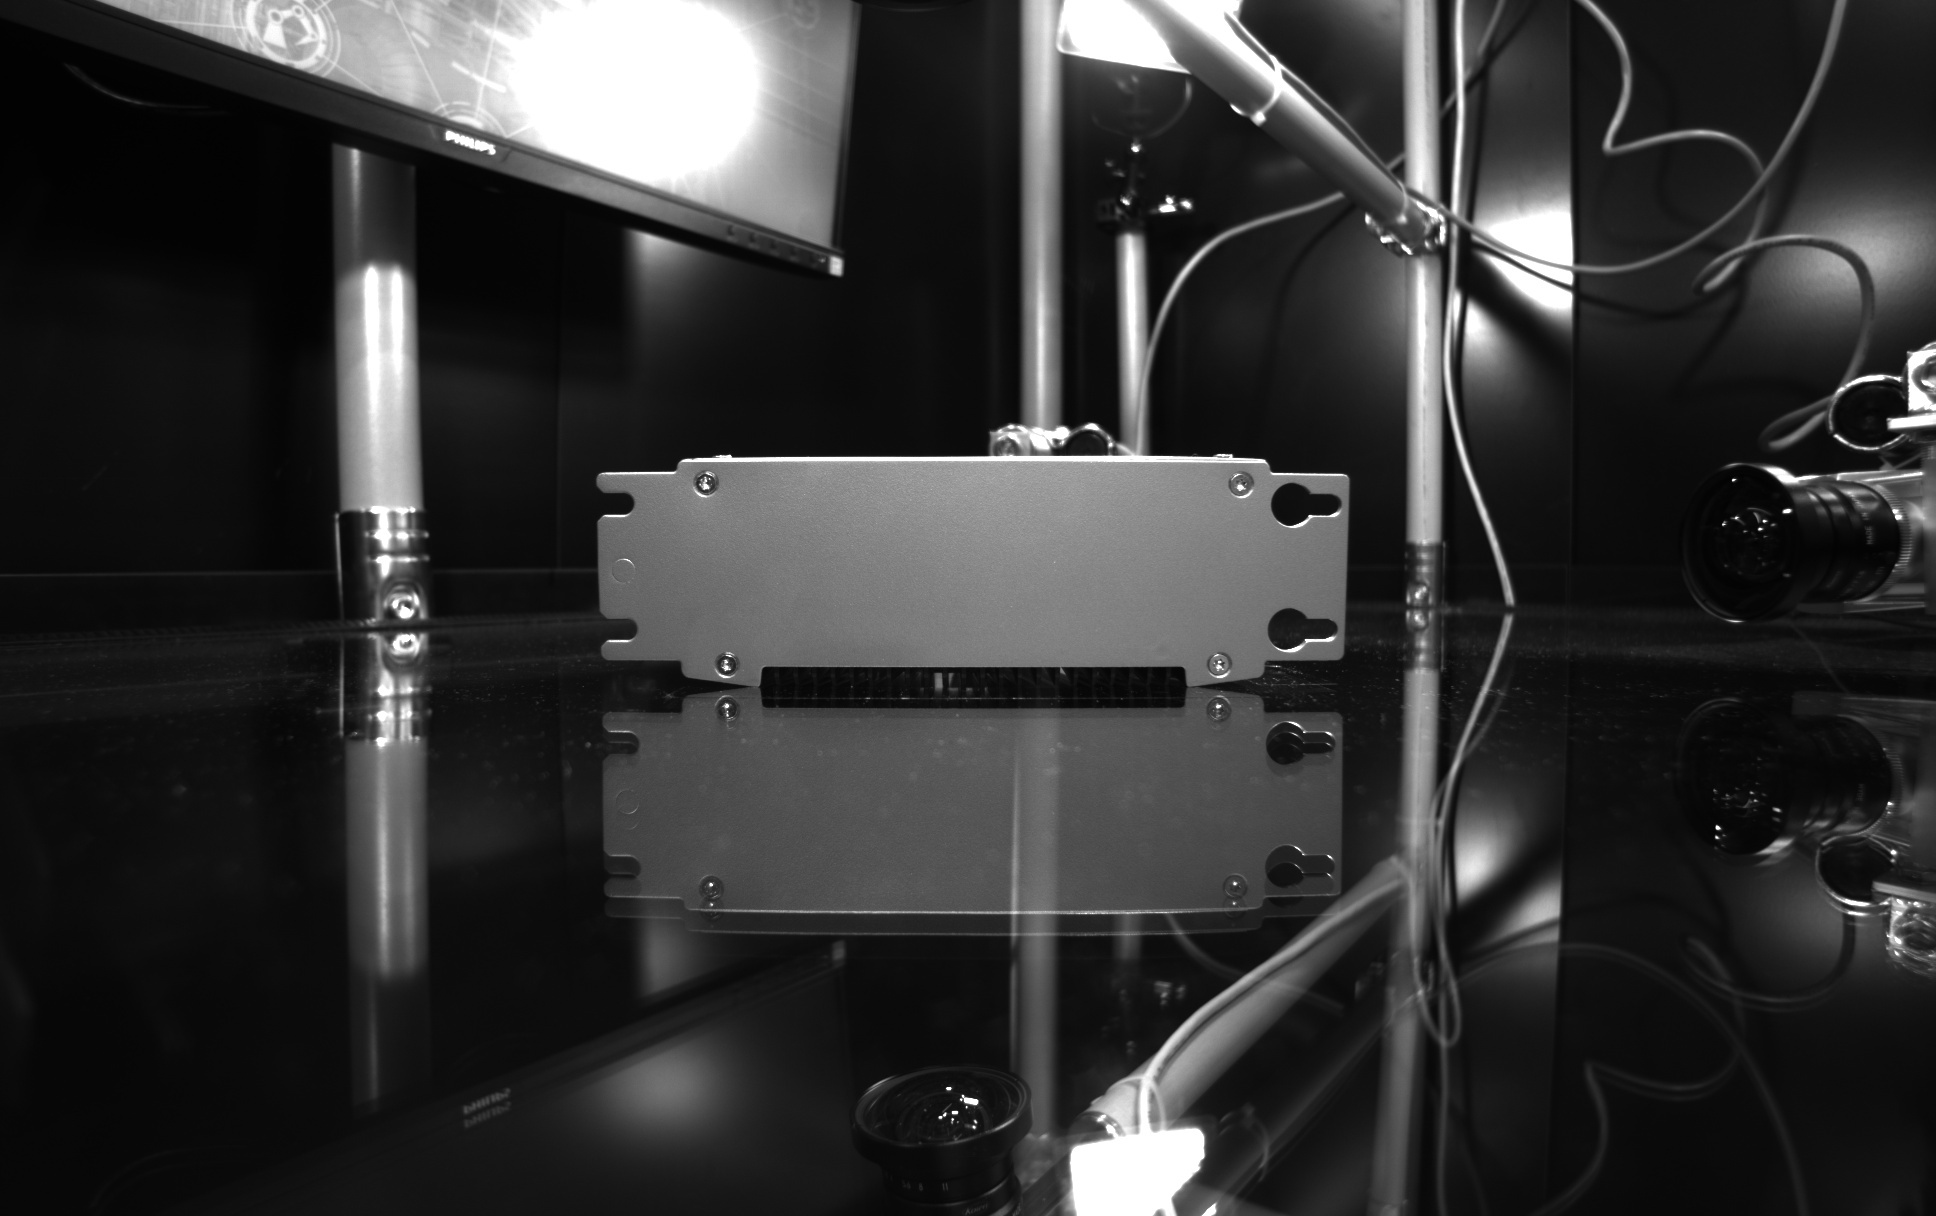CamBack: (570, 426, 1367, 688)
Schraube: (707, 643, 749, 684), (1222, 461, 1262, 502), (1201, 644, 1238, 684), (689, 464, 727, 502)
Schraube_gespiegelt: (1215, 864, 1254, 937), (688, 869, 733, 927), (705, 691, 748, 744), (1195, 693, 1241, 741)
